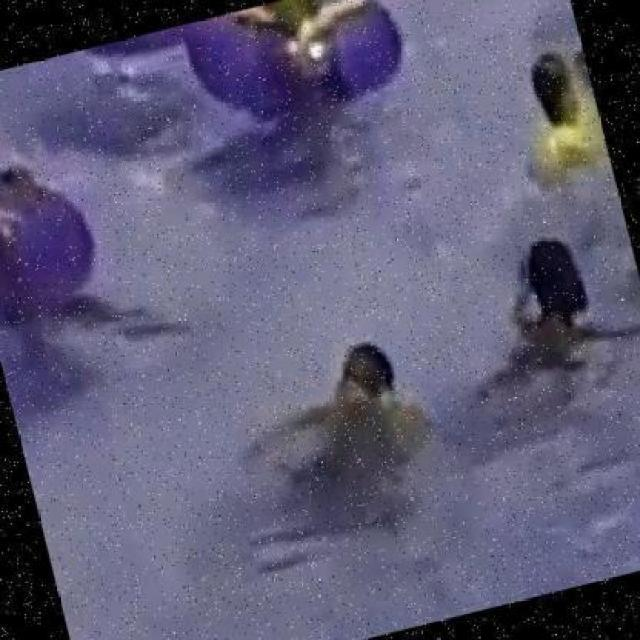drowning: (524, 237, 590, 368), (530, 57, 593, 185), (320, 348, 414, 428)
